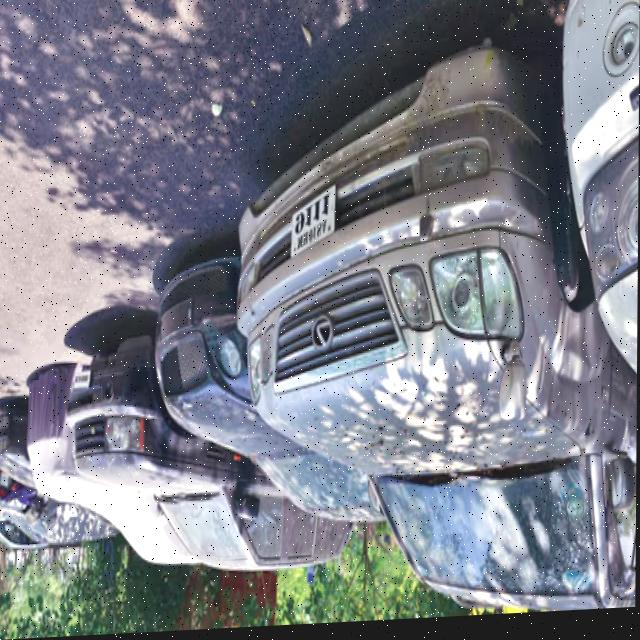plate: (289, 182, 340, 263), (72, 369, 93, 390)
